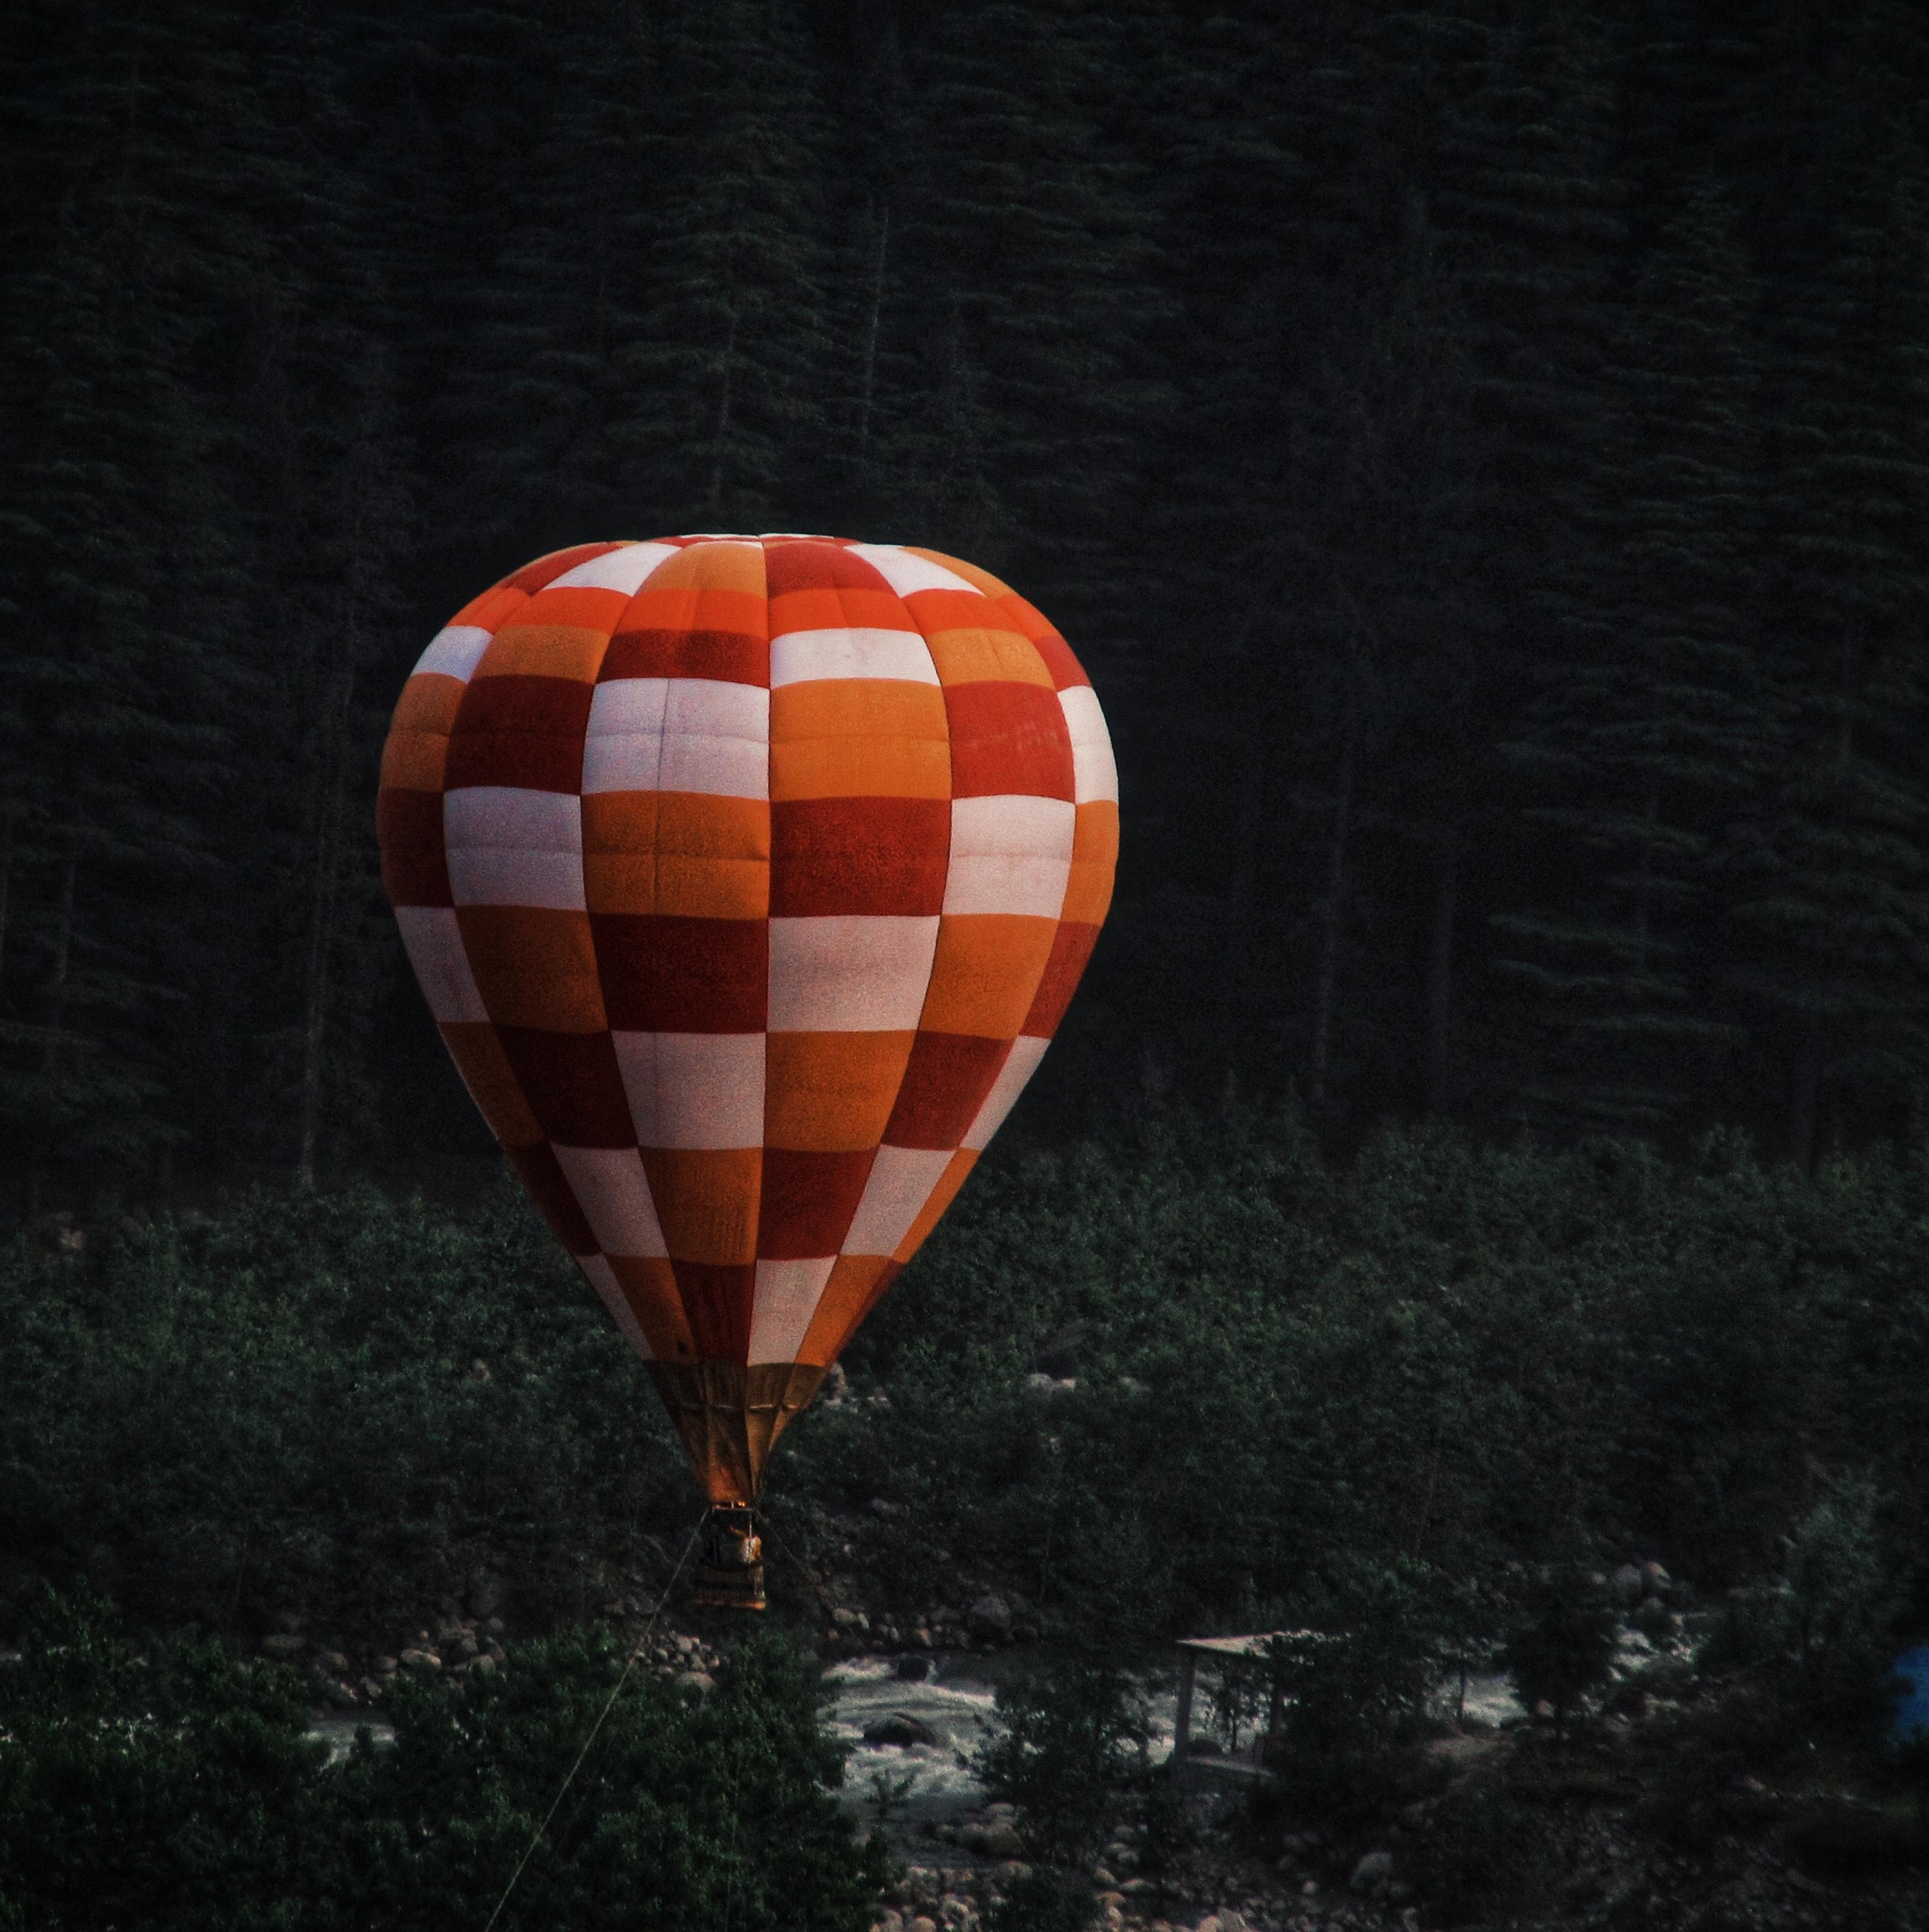hot air ballon: (374, 512, 1127, 1634)
